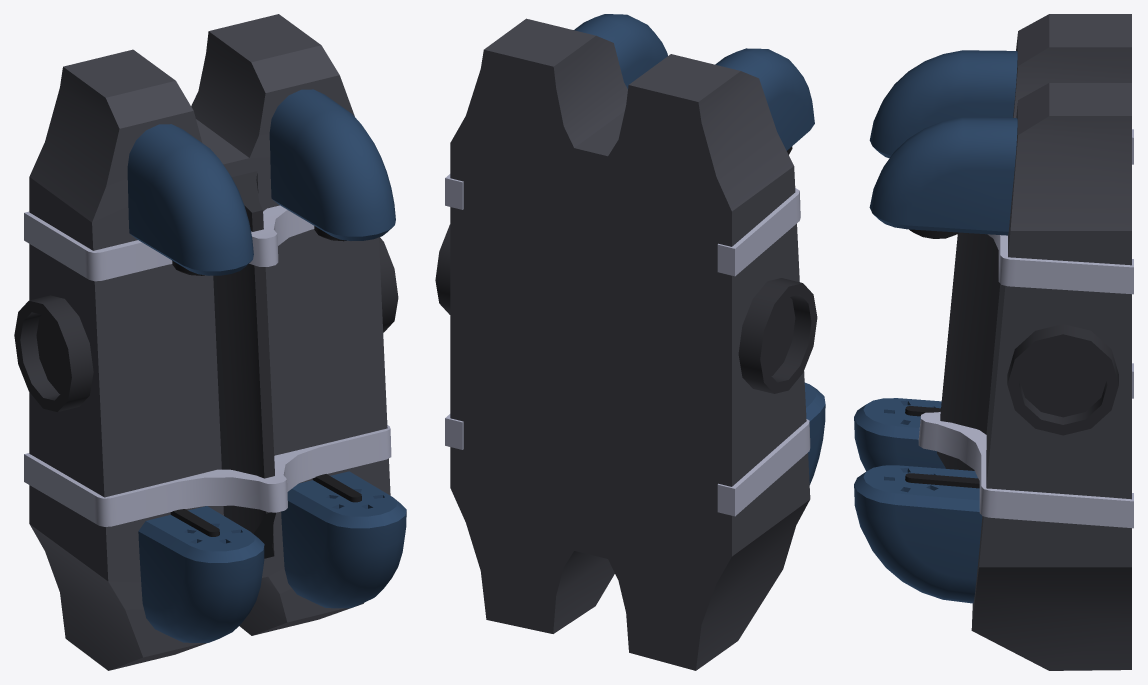
File: Misc_BatteryCharger_X2_A.fbx
3 renders of one model, left to right at view 1: azimuth 30°, elevation 25°; view 2: azimuth 150°, elevation 25°; view 3: azimuth 270°, elevation 25°, orthographic. The views are drawn at different scales.
Visible parts, largest first — view 1: Misc_BatteryCharger_X2_A.001; view 2: Misc_BatteryCharger_X2_A.001; view 3: Misc_BatteryCharger_X2_A.001.
Boxes of the visible parts, box(x1,y1,x2,y2) form: Misc_BatteryCharger_X2_A.001: box(14, 14, 406, 670); Misc_BatteryCharger_X2_A.001: box(435, 14, 825, 670); Misc_BatteryCharger_X2_A.001: box(854, 14, 1133, 670).
Bounding box in the file's own units: 0.1841 × 0.3091 × 0.141.
